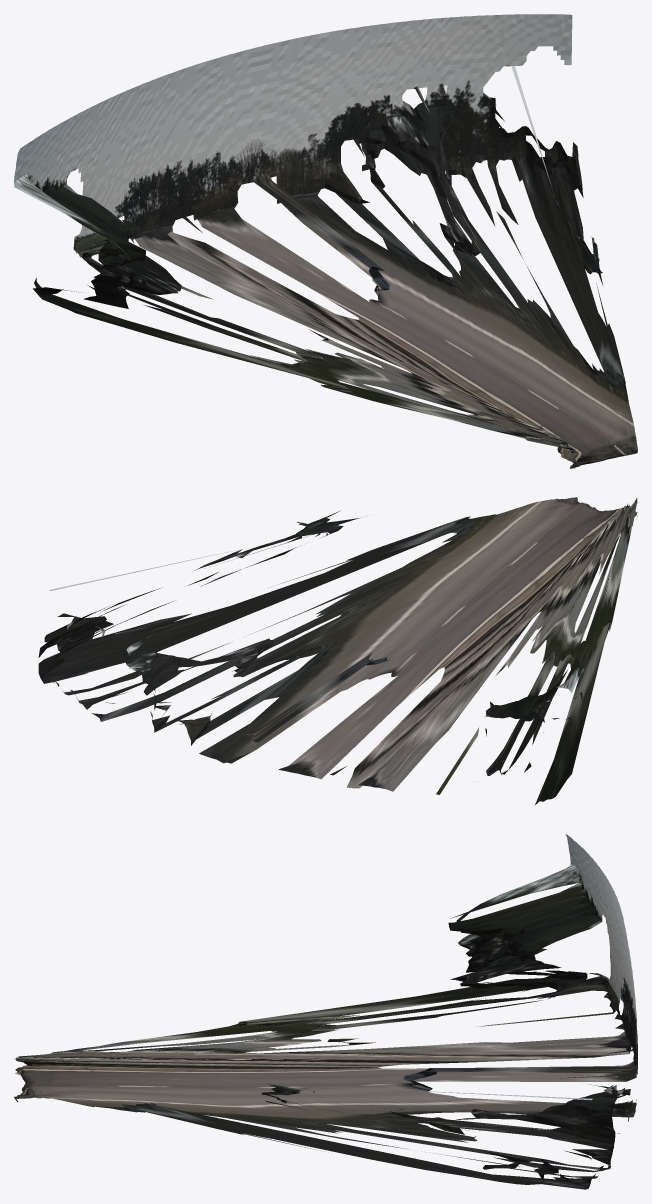
3 renders of one model, top to bottom at view 1: azimuth 30°, elevation 25°; view 2: azimuth 150°, elevation 25°; view 3: azimuth 270°, elevation 25°, orthographic. The views are drawn at different scales.
Parts seen in each view (by area): view 1: defaultobject; view 2: defaultobject; view 3: defaultobject.
Part boxes in pixels (bbox=[...]): defaultobject: bbox=[14, 14, 637, 468]; defaultobject: bbox=[38, 497, 637, 804]; defaultobject: bbox=[14, 834, 637, 1189].
Bounding box in the file's own units: 40.89 × 12.16 × 44.67.
1 material, 1 textured.
